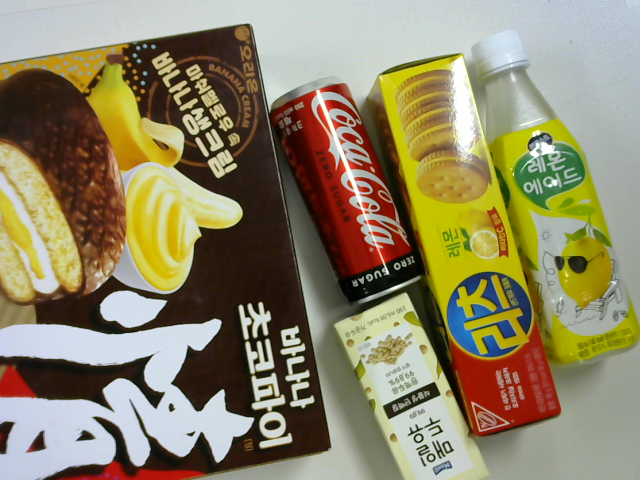99.89_Soymilk: (324, 291, 492, 480)
Choco_Pie_Banana: (1, 18, 335, 477)
Coca_Cola_Zero_Can_250ml: (266, 73, 424, 306)
Ritz_Remon_96g: (366, 53, 568, 446)
Sunkist_Lemonaid_Pet: (465, 22, 640, 369)
